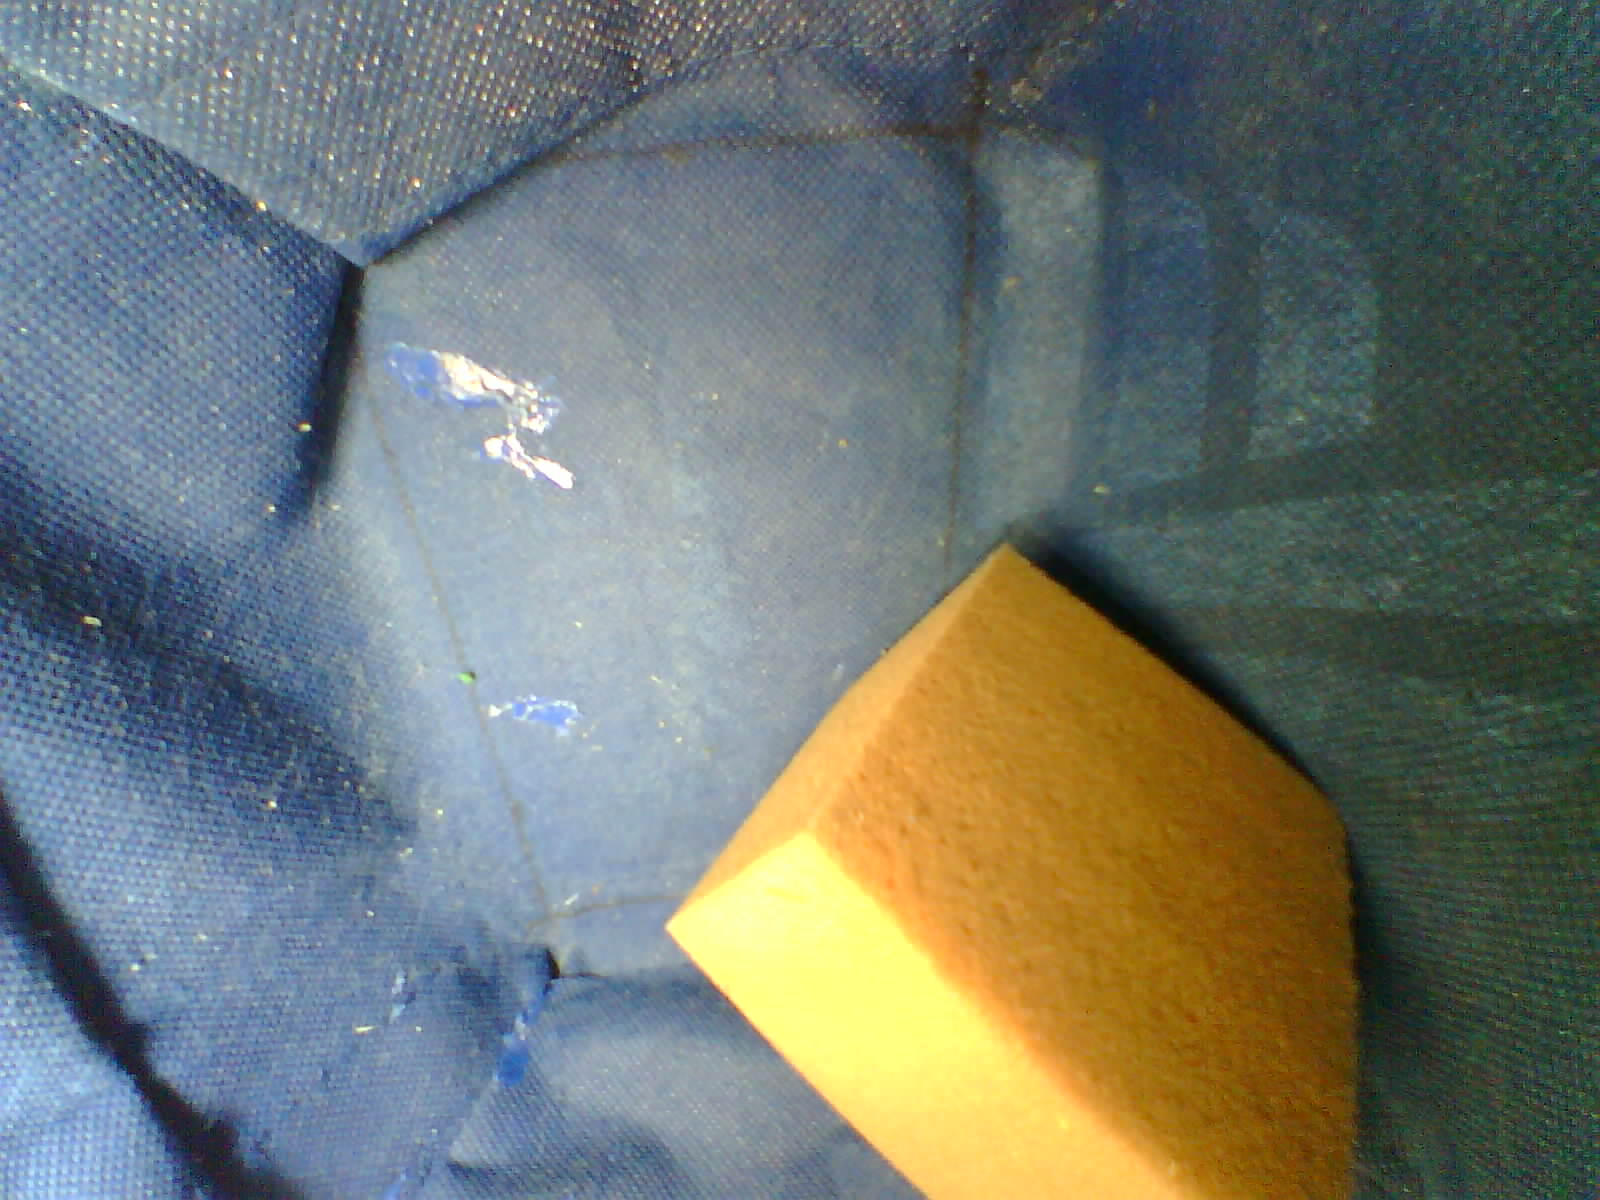cube-soft: (653, 523, 1388, 1200)
